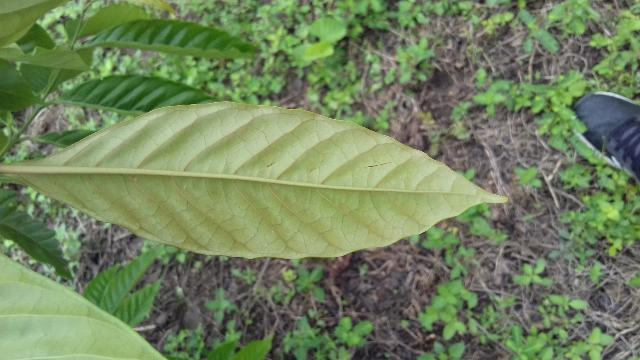healthy: (0, 96, 515, 262)
